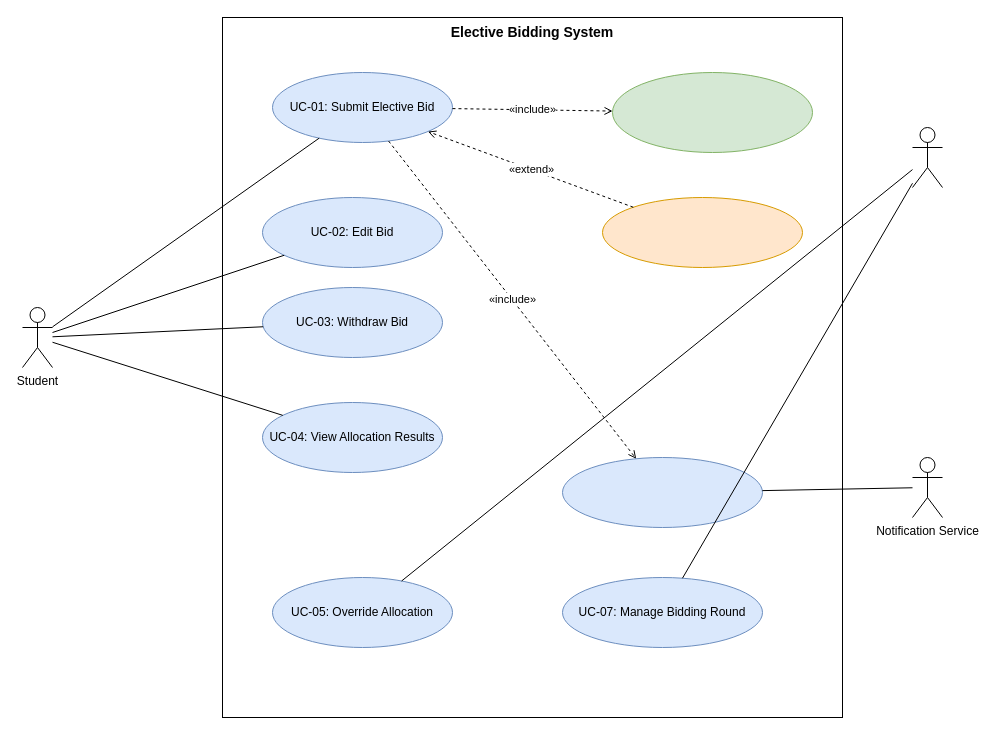
Some shapes in this 996 by 735 pixel diagram are drawn without their labels. The centre of each missing label's shape, as x and y in pixels:
"Administrator" belongs at point (927, 157).
"UC-06: Place on Waitlist" belongs at point (702, 232).
"UC-06: Send Notification" belongs at point (662, 492).
"UC-07: Validate Credit & Prerequisite Allocation" belongs at point (712, 112).
